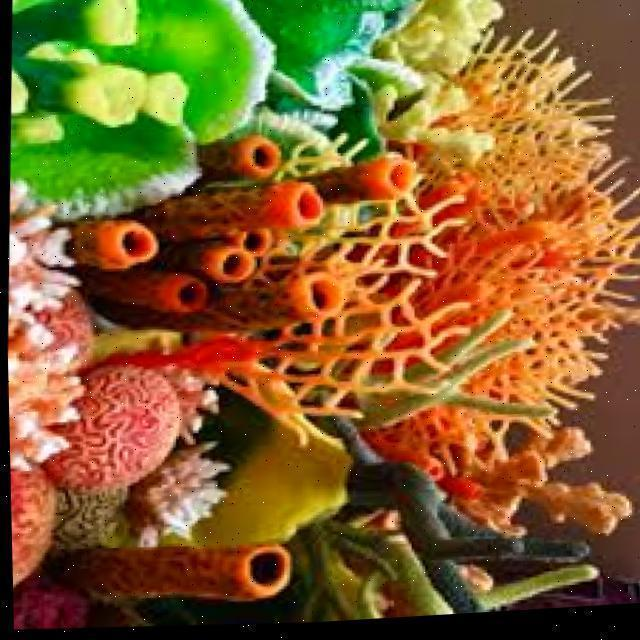Healthy Coral: (324, 26, 640, 512), (27, 93, 417, 361), (274, 441, 640, 628), (35, 518, 316, 639), (35, 351, 212, 498)
